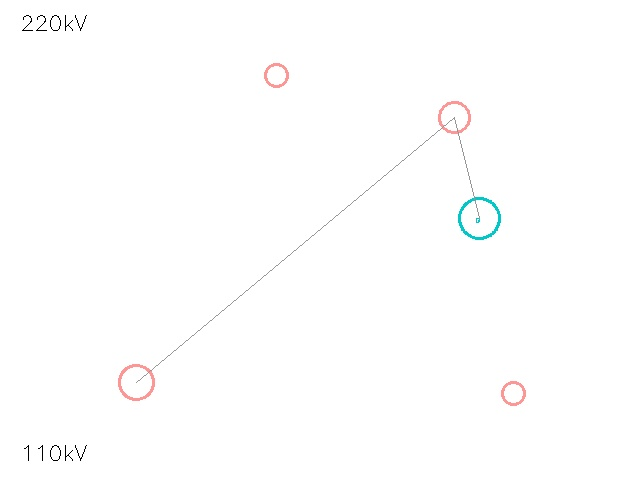current_transformer: (102, 348, 170, 416), (490, 370, 536, 416)
disconnect_switch: (254, 53, 298, 97)
fuse: (424, 87, 484, 147)
generator: (459, 198, 499, 238)
